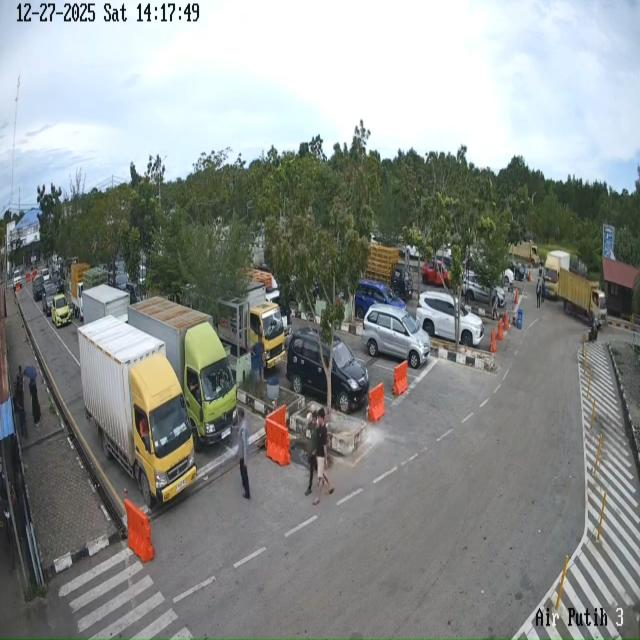Golongan IVA: (286, 327, 370, 413), (362, 305, 430, 369), (416, 291, 484, 347), (354, 279, 406, 320), (462, 272, 506, 308), (51, 294, 72, 328), (42, 282, 59, 316), (32, 274, 45, 302)
Golongan VB: (77, 316, 196, 508), (128, 297, 237, 451), (217, 282, 286, 369), (557, 268, 607, 326), (543, 250, 570, 298), (508, 241, 540, 264)
